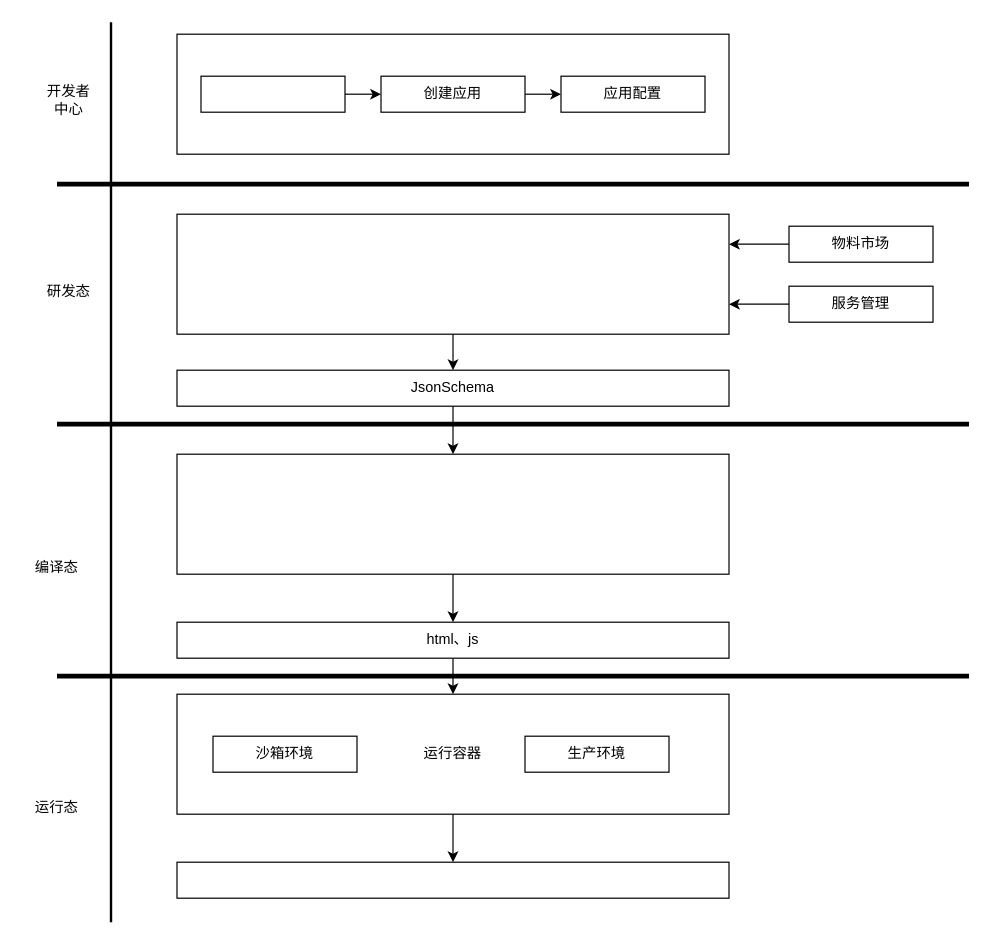
This 991x943 diagram has some shape labels left out. The box of each missing label's shape, as (x1, y1, x2, y2) in pixels:
IDE (可视化编辑器): (176, 213, 729, 334)
可访问的 url: (176, 861, 729, 898)
构建打包: (176, 453, 729, 574)
租户入驻: (200, 75, 345, 112)
